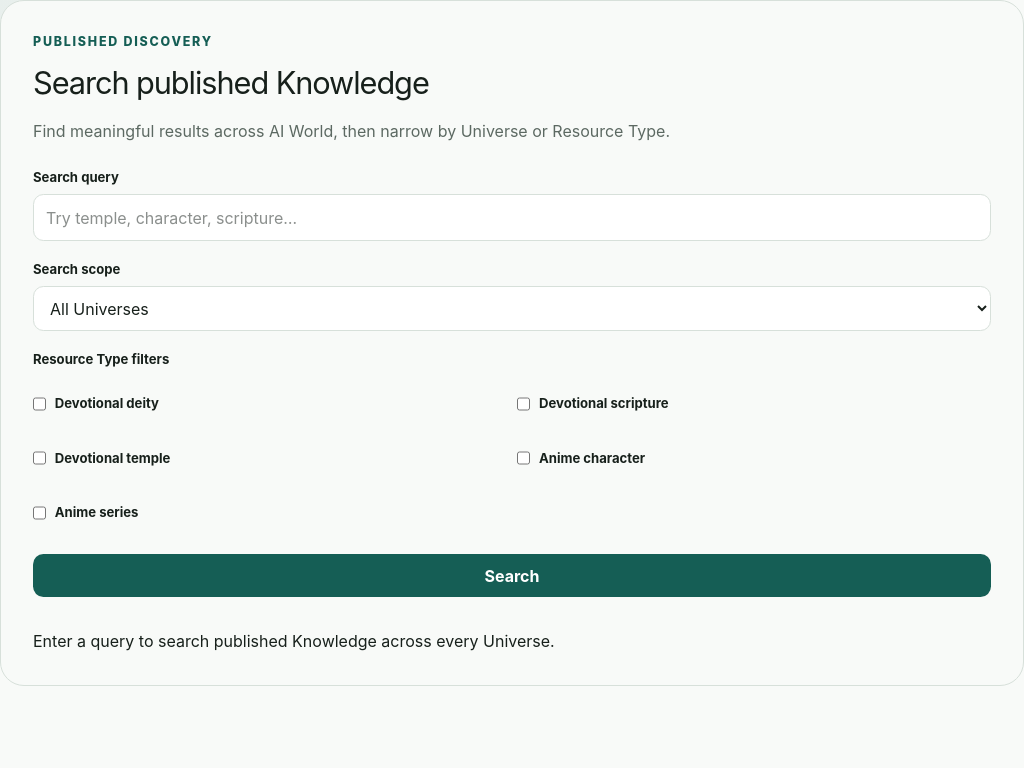
Test: Phase 6 Web Discovery integration › sends Universe scope and exact multi-value Resource Type filters
Step 1. Type "." into the field labelled "Search query" → (512,218), box [33, 194, 991, 241]
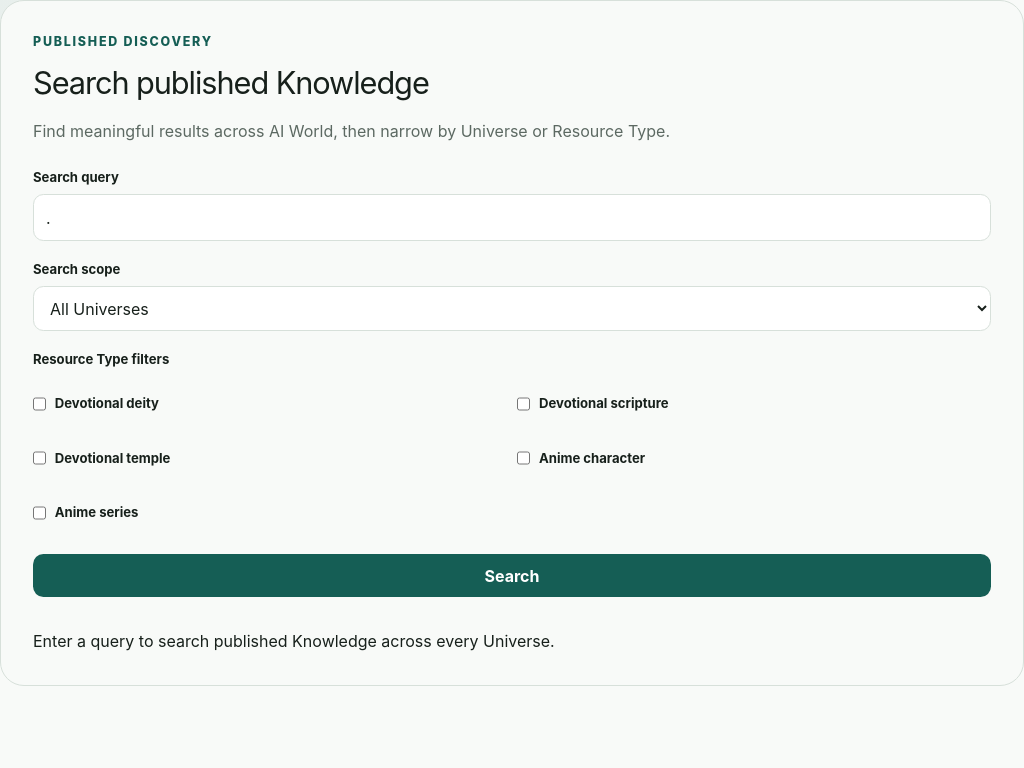
Step 2. Select "Devotional Universe" in the dropdown labelled "Search scope" → (512,309), box [33, 286, 991, 331]
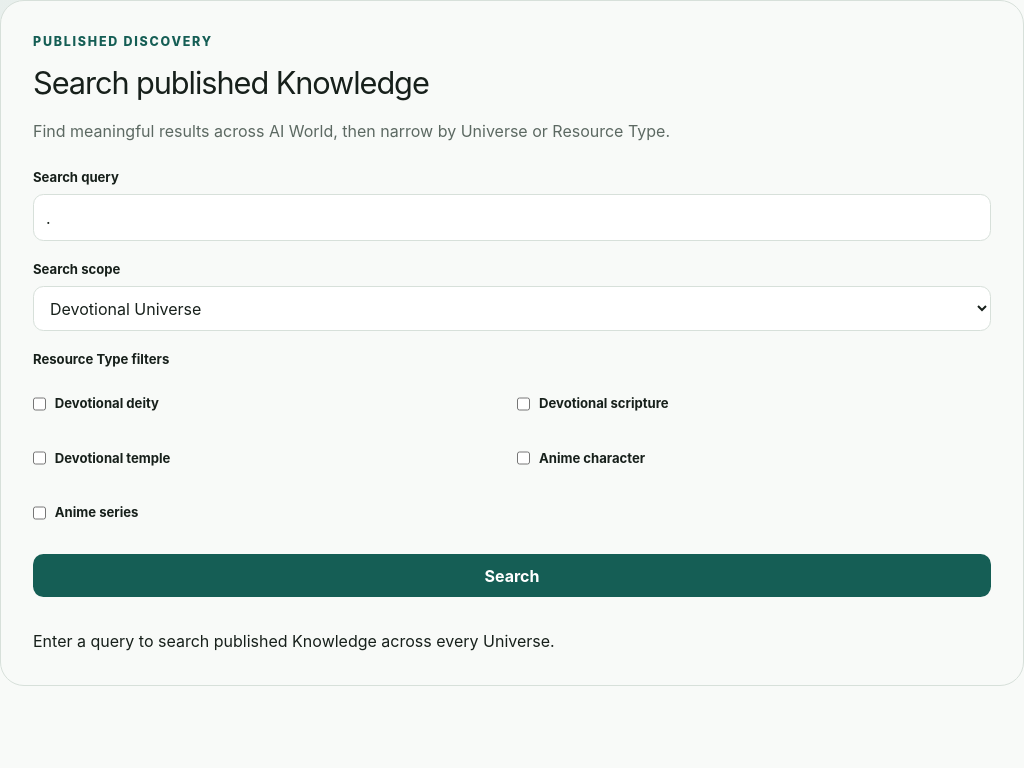
Step 3. Click the checkbox labelled "Devotional deity" → (40,404), box [33, 382, 46, 426]
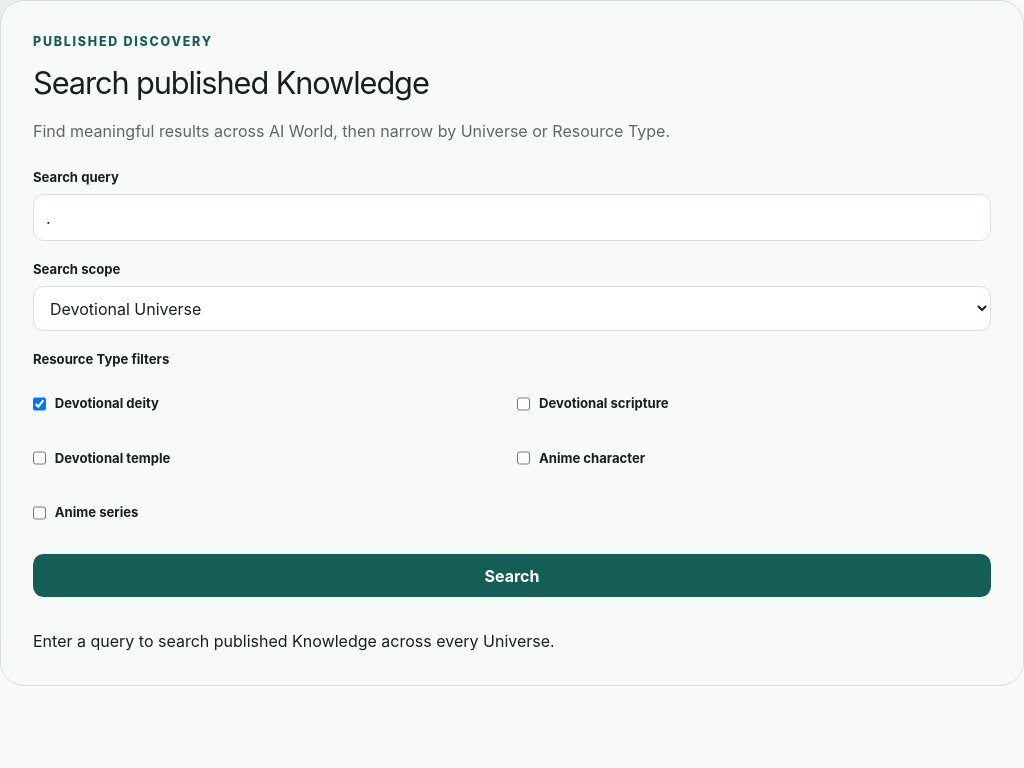
Step 4. Click the checkbox labelled "Devotional temple" → (40,458), box [33, 436, 46, 480]
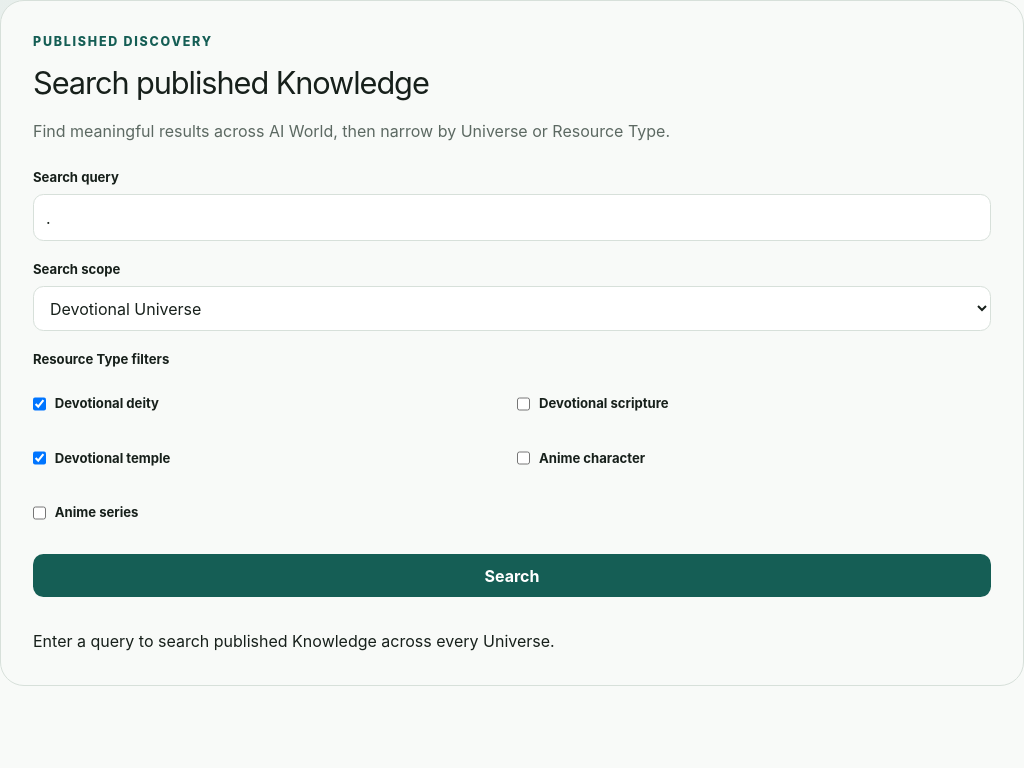
Step 5. Click the button "Search" → (512,576), box [33, 554, 991, 597]
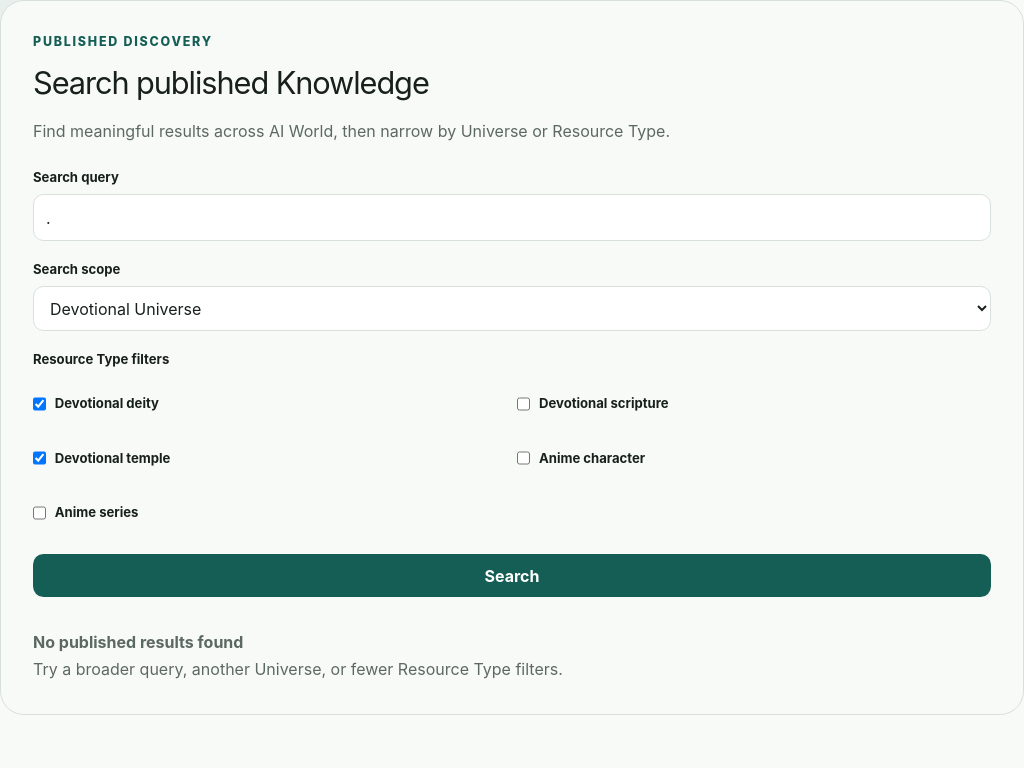
Now the text "No published results found" is shown, box [33, 632, 243, 652]
